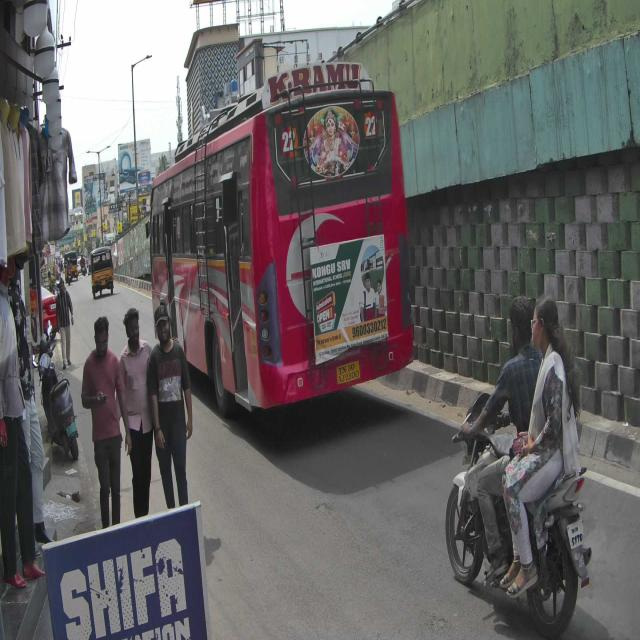double_rider: (444, 294, 592, 634)
